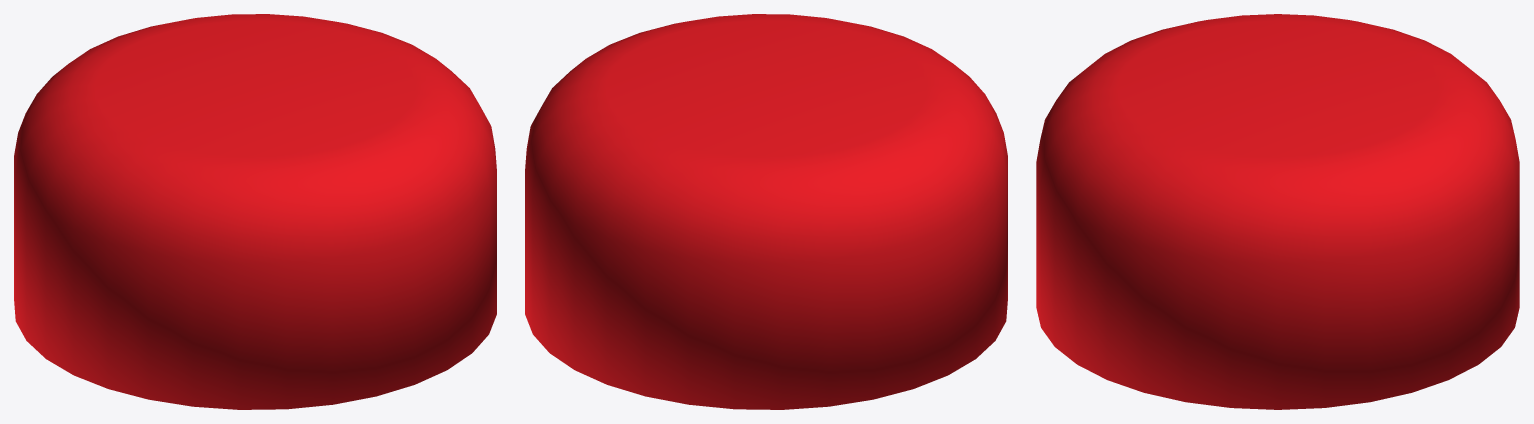
Rendered from PlayerRed.glb.
3 renders of one model, left to right at view 1: azimuth 30°, elevation 25°; view 2: azimuth 150°, elevation 25°; view 3: azimuth 270°, elevation 25°, orthographic.
Parts seen in each view (by area): view 1: Player; view 2: Player; view 3: Player.
Boxes of the visible parts, left/top/right/bottom form: Player: left=14, top=14, right=496, bottom=409; Player: left=525, top=14, right=1007, bottom=409; Player: left=1036, top=14, right=1519, bottom=409.
Size of the model in its own units: 0.06 by 0.03 by 0.06.
